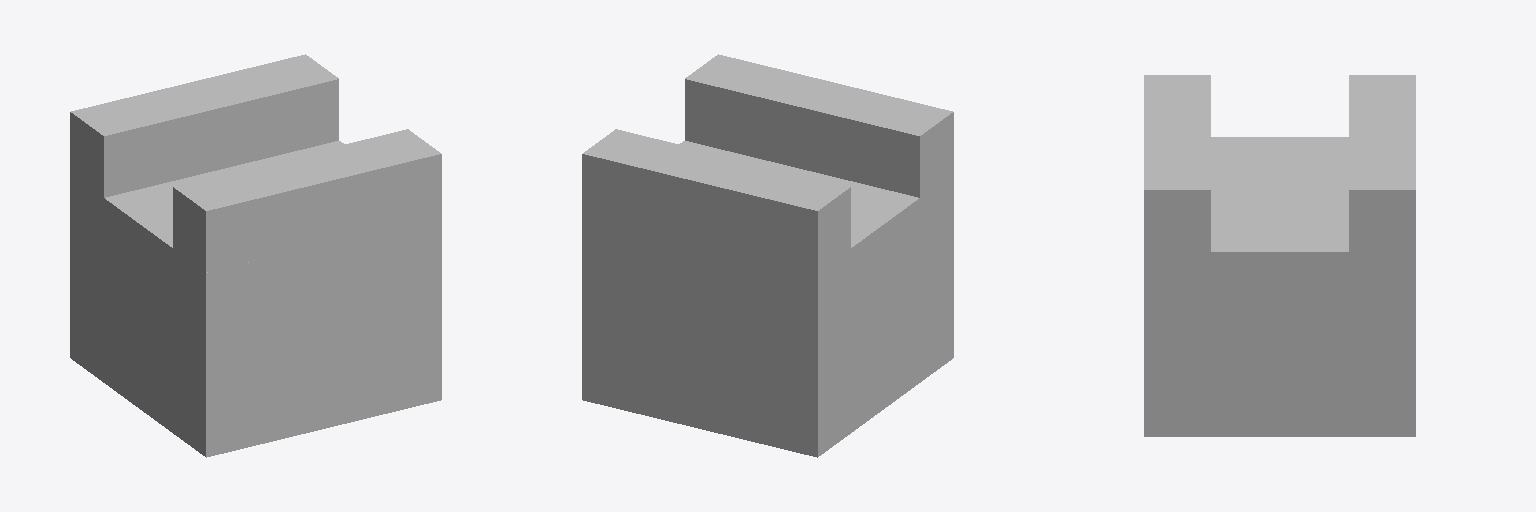
The model's file is pieceI.obj.
The picture shows the model from 3 angles: view 1: azimuth 30°, elevation 25°; view 2: azimuth 150°, elevation 25°; view 3: azimuth 270°, elevation 25°; orthographic projection.
Visible parts, largest first — view 1: Cube.001_Cube.003, Cube_Cube.005; view 2: Cube.001_Cube.003, Cube_Cube.005; view 3: Cube.001_Cube.003, Cube_Cube.005.
Part boxes in pixels (bbox=[...]): Cube.001_Cube.003: bbox=[70, 141, 441, 457]; Cube_Cube.005: bbox=[70, 54, 441, 272]; Cube.001_Cube.003: bbox=[582, 141, 953, 457]; Cube_Cube.005: bbox=[582, 54, 953, 272]; Cube.001_Cube.003: bbox=[1144, 137, 1415, 436]; Cube_Cube.005: bbox=[1144, 75, 1415, 251].
Size of the model in its own units: 2 by 2 by 2.